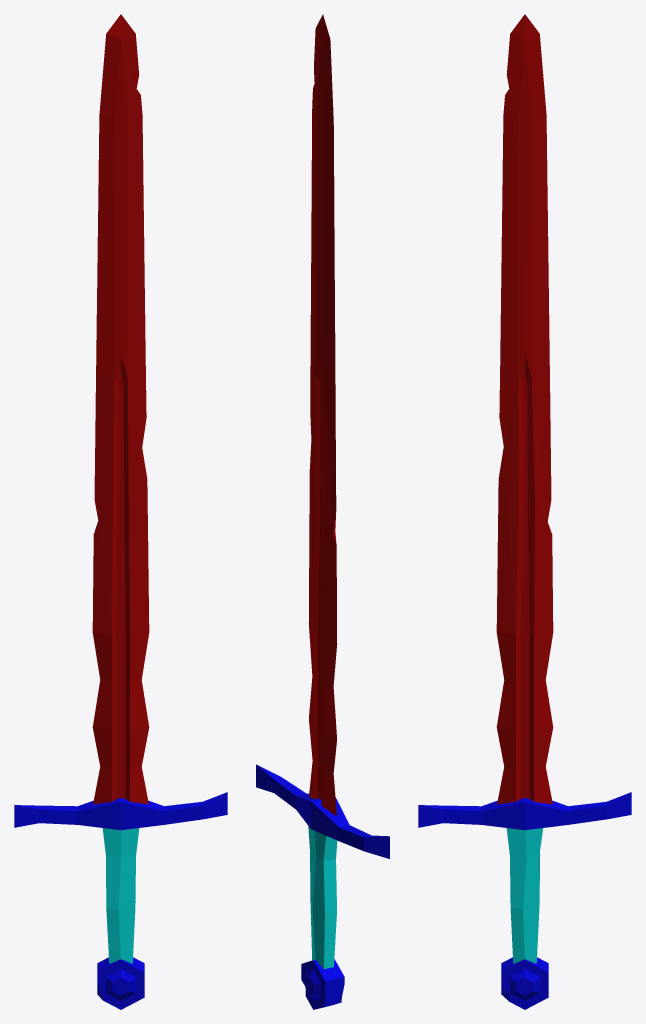
The model's file is Sword_Common_SerratedLongsword.fbx.
3 renders of one model, left to right at view 1: azimuth 90°, elevation 25°; view 2: azimuth 210°, elevation 25°; view 3: azimuth 270°, elevation 25°, orthographic.
Visible parts, largest first — view 1: SM_Wep_Sword_05; view 2: SM_Wep_Sword_05; view 3: SM_Wep_Sword_05.
Boxes of the visible parts, x1=… form: SM_Wep_Sword_05: x1=14, y1=14, x2=227, y2=1009; SM_Wep_Sword_05: x1=256, y1=14, x2=389, y2=1009; SM_Wep_Sword_05: x1=418, y1=14, x2=631, y2=1009.
Bounding box in the file's own units: 4.28 × 152 × 29.66.
